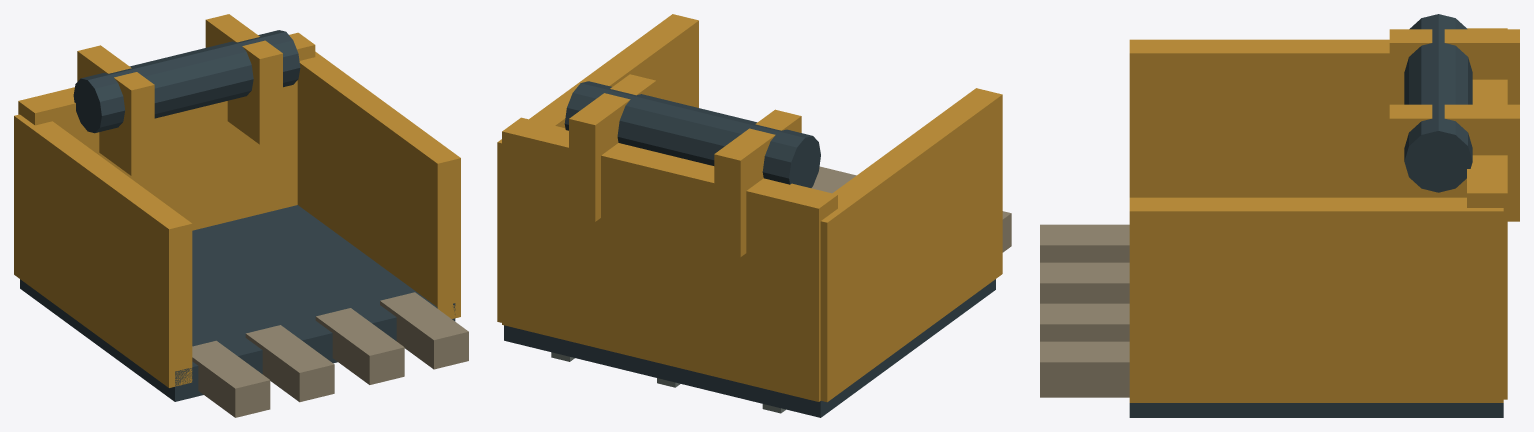
Rendered from exc-bucket.glb.
The picture shows the model from 3 angles, left to right: view 1: azimuth 30°, elevation 25°; view 2: azimuth 150°, elevation 25°; view 3: azimuth 270°, elevation 25°; orthographic projection. The views are drawn at different scales.
Bounding box in the file's own units: 2.5 × 1.85 × 2.95.
